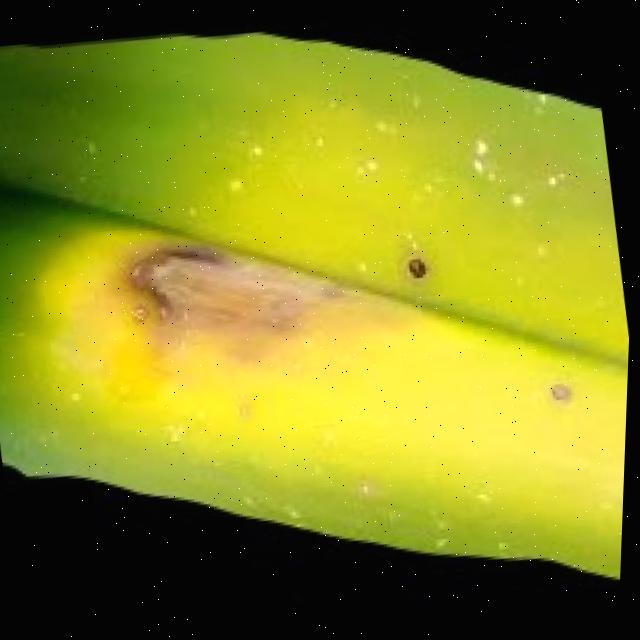mite: (395, 222, 588, 423), (381, 222, 458, 300), (396, 238, 448, 290), (539, 361, 592, 412), (550, 371, 585, 405), (409, 252, 434, 276), (553, 375, 578, 399)
